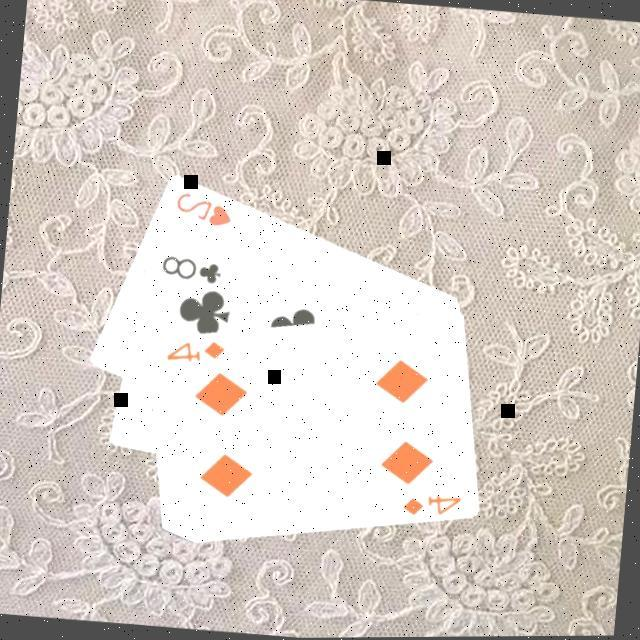2H: (170, 189, 236, 232)
4D: (160, 334, 226, 369), (397, 489, 463, 524)
8C: (155, 251, 224, 289)
